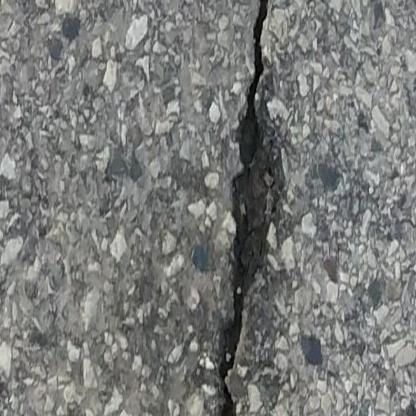Cracks: (221, 0, 285, 416)
